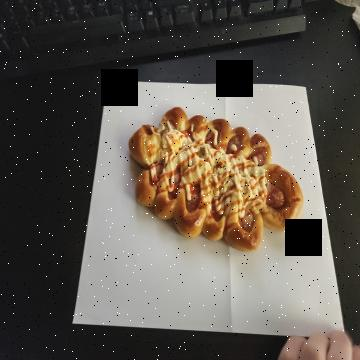pizza_bread: (131, 108, 303, 254)
